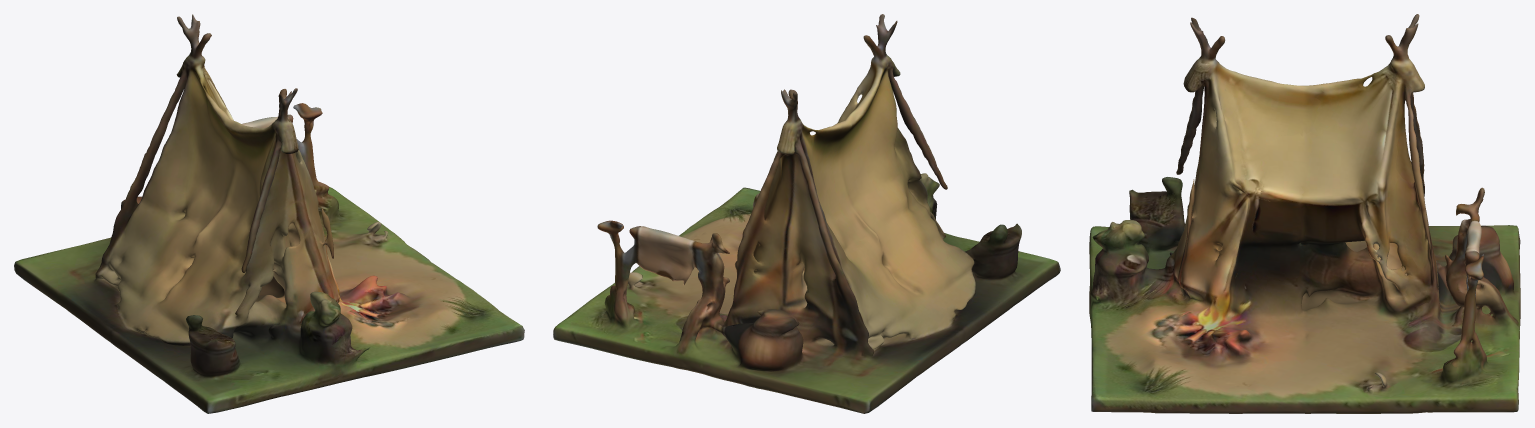
Rendered from forest_camp.glb.
The picture shows the model from 3 angles, left to right: view 1: azimuth 30°, elevation 25°; view 2: azimuth 150°, elevation 25°; view 3: azimuth 270°, elevation 25°; orthographic projection. The views are drawn at different scales.
Parts seen in each view (by area): view 1: tripo_node_09b31c8e-224f-49e0-a2fa-c12ca3c1dc0c; view 2: tripo_node_09b31c8e-224f-49e0-a2fa-c12ca3c1dc0c; view 3: tripo_node_09b31c8e-224f-49e0-a2fa-c12ca3c1dc0c.
Part boxes in pixels (left/top/right/bottom): tripo_node_09b31c8e-224f-49e0-a2fa-c12ca3c1dc0c: left=14, top=14, right=524, bottom=413; tripo_node_09b31c8e-224f-49e0-a2fa-c12ca3c1dc0c: left=553, top=14, right=1060, bottom=413; tripo_node_09b31c8e-224f-49e0-a2fa-c12ca3c1dc0c: left=1089, top=14, right=1520, bottom=413.
Bounding box in the file's own units: 0.5952 × 0.4731 × 0.6305.
Materials: 1 (1 with a texture image).
